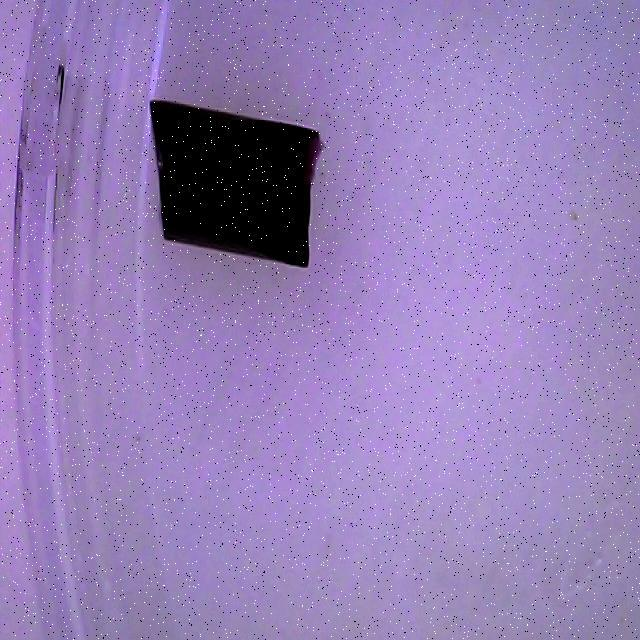fragments: (124, 97, 335, 268)
